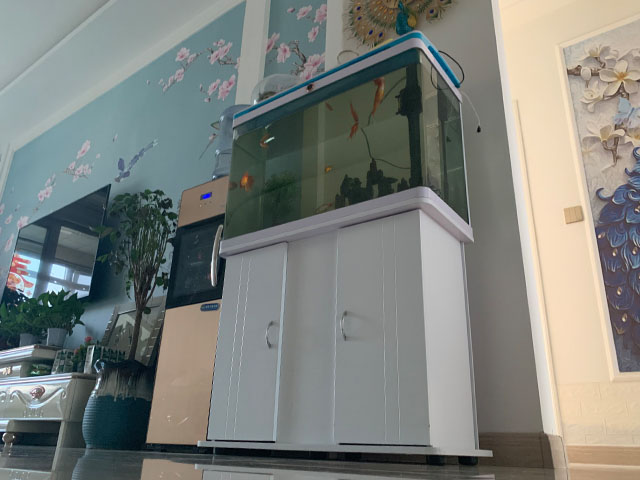cabinet: (195, 186, 495, 467), (1, 344, 98, 448)
